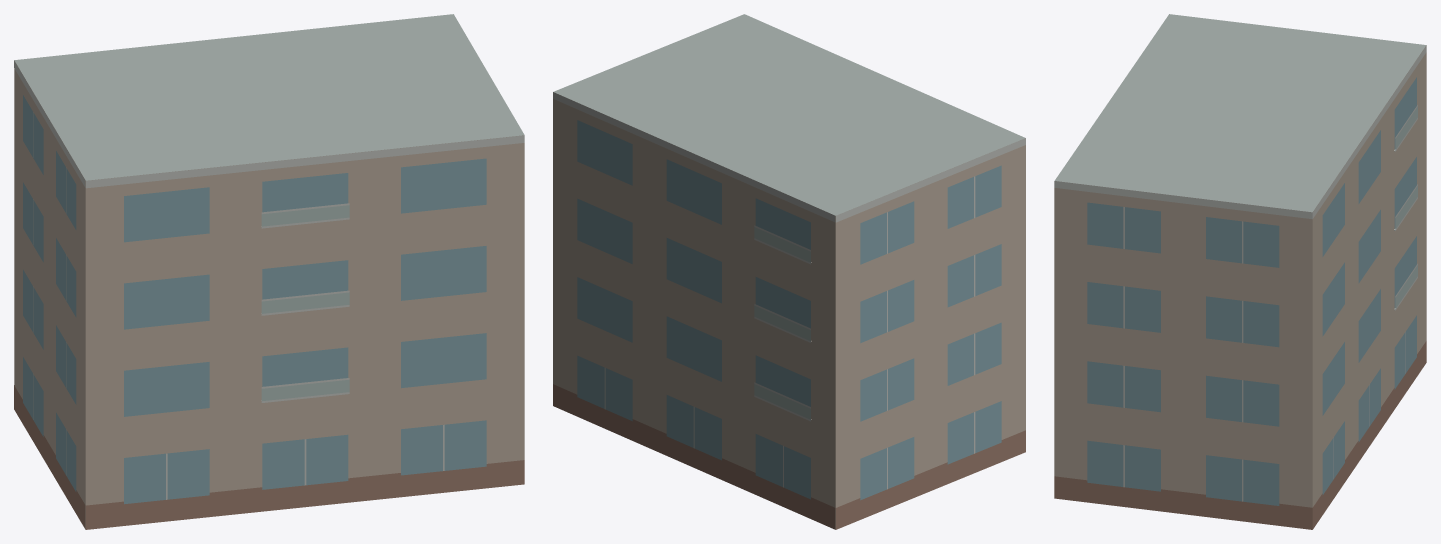
Rendered from survey-upis-32868344.glb.
The picture shows the model from 3 angles, left to right: view 1: azimuth 30°, elevation 25°; view 2: azimuth 150°, elevation 25°; view 3: azimuth 270°, elevation 25°; orthographic projection. The views are drawn at different scales.
Visible parts, largest first — view 1: survey-upis-32868344.tmp; view 2: survey-upis-32868344.tmp; view 3: survey-upis-32868344.tmp.
Boxes of the visible parts, x1,y1,x2,y2 form: survey-upis-32868344.tmp: (14, 14, 524, 529); survey-upis-32868344.tmp: (553, 14, 1025, 529); survey-upis-32868344.tmp: (1054, 14, 1426, 529).
Bounding box in the file's own units: 14.94 × 11.15 × 11.85.
